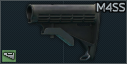High Standard M4SS Stock: (0, 0, 127, 64)
